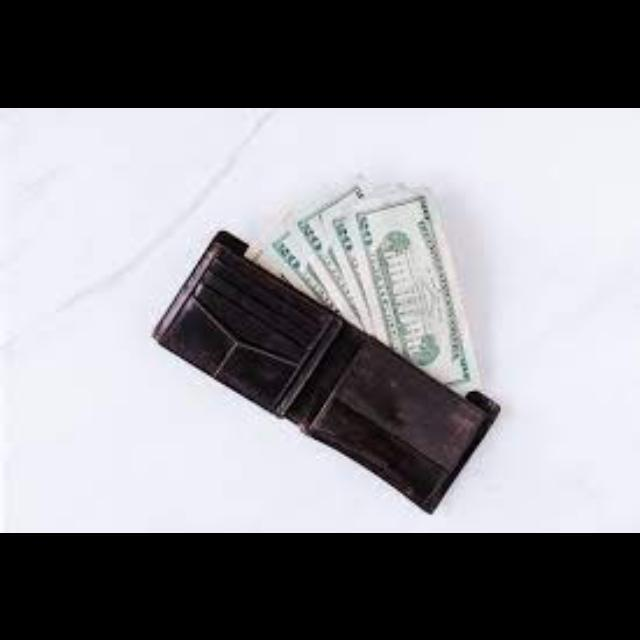wallet: (133, 211, 573, 533)
